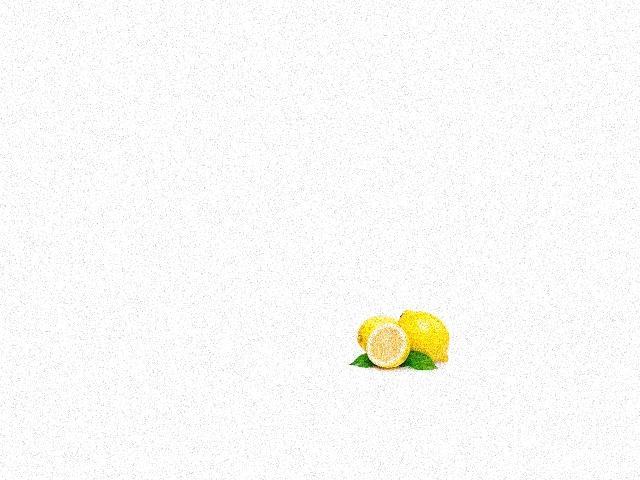lemon: (367, 323, 410, 372)
